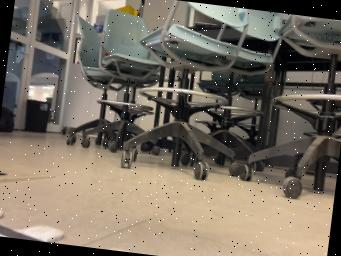street: (0, 225, 45, 242), (0, 225, 45, 242), (0, 225, 45, 242), (0, 225, 45, 242), (0, 225, 45, 242), (0, 225, 45, 242)
